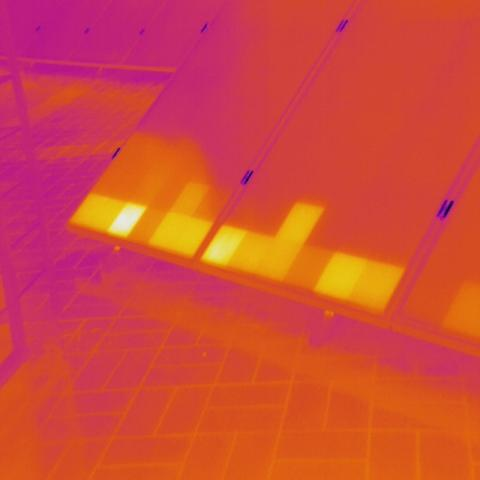fault: (316, 247, 408, 316), (227, 227, 297, 281), (152, 210, 212, 254), (277, 200, 329, 243), (202, 222, 248, 266), (70, 190, 120, 227), (166, 179, 212, 214), (111, 201, 148, 239)
